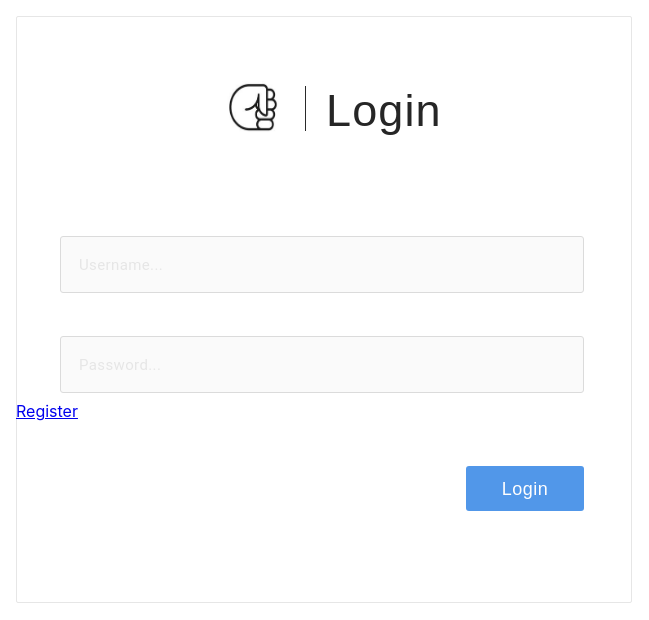
it: blank login input
Click the button "Login": (525, 488) 466,466 -> 584,511
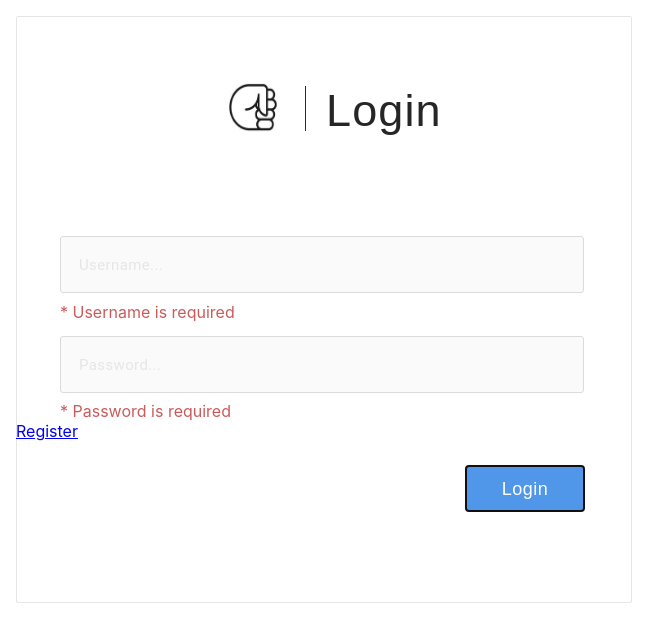
Expected: the text titled "noUsernameError" reads "* Username is required", 60,302 -> 235,322
Expected: the text titled "noPasswordError" reads "* Password is required", 60,401 -> 231,421
